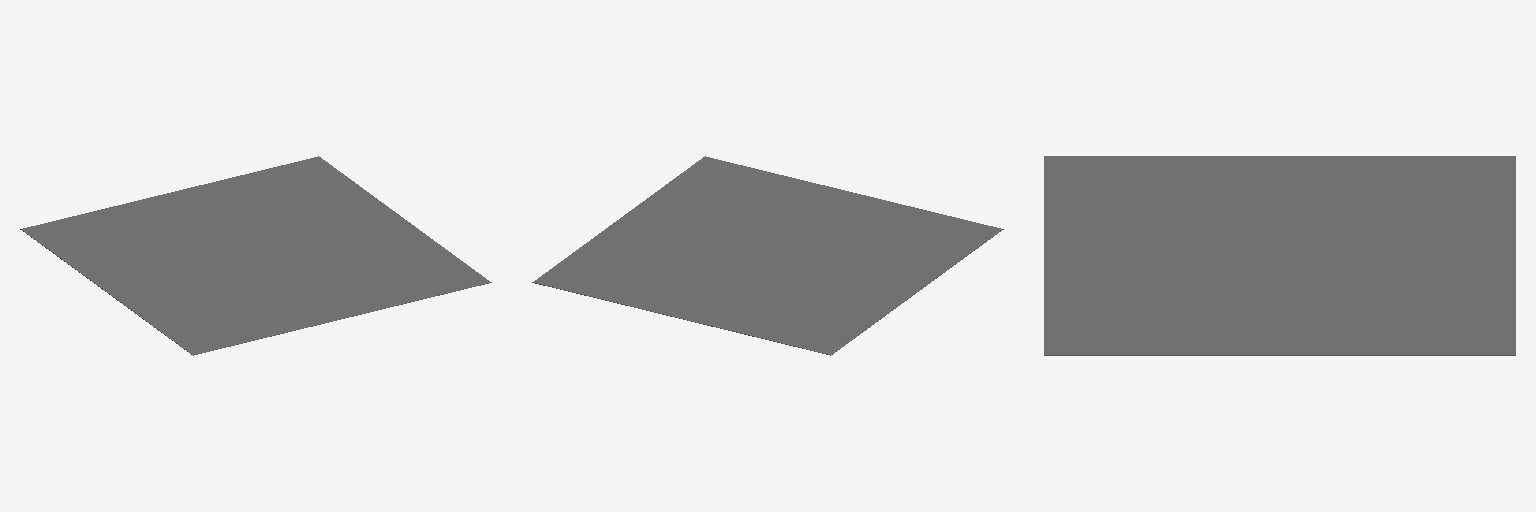
URDF robot description (flat_plane):
<?xml version="1.0" ?>
<robot name="flat_plane">
  <link name="plane_link">
    <visual>
      <geometry>
        <box size="1 1 0.001" />
      </geometry>
      <material name="gray">
        <color rgba="0.5 0.5 0.5 1"/>
      </material>
    </visual>
    <collision>
      <geometry>
        <box size="1 1 0.001" />
      </geometry>
    </collision>
    <inertial>
      <mass value="0.1"/>
      <inertia ixx="0.01" ixy="0" ixz="0" iyy="0.01" iyz="0" izz="0.01"/>
      <origin xyz="0 0 0" rpy="0 0 0"/>
    </inertial>
  </link>
</robot>

--- Render facts (derived) ---
The picture shows the robot from 3 angles, left to right: view 1: azimuth 30°, elevation 25°; view 2: azimuth 150°, elevation 25°; view 3: azimuth 270°, elevation 25°; orthographic projection.
Robot: flat_plane — 1 links, 0 joints (none); root link plane_link; default pose: every joint at zero.
Links seen in each view (by area): view 1: plane_link; view 2: plane_link; view 3: plane_link.
Boxes of the visible links, box(x1,y1,x2,y2) form: plane_link: box(20, 156, 491, 355); plane_link: box(532, 156, 1003, 355); plane_link: box(1044, 156, 1515, 355).
Size in the robot's own frame: 1 by 1 by 0.001 metres.
Geometry: primitives only (box / cylinder / sphere), no mesh files.
